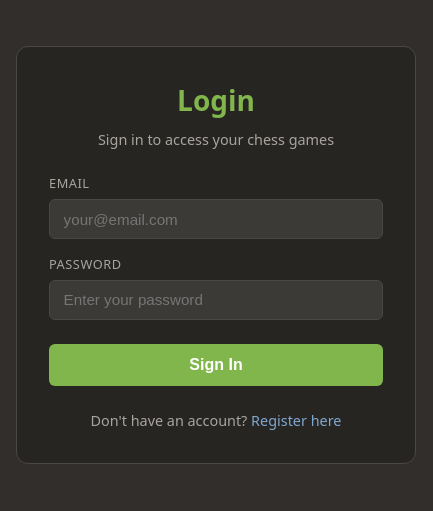
LoginPage failed login › shows error message on login failure
This screenshot has width=433, height=511.
Type "bad@test.com" into the field labelled "Email" at (216, 219), box 49,199 -> 383,239
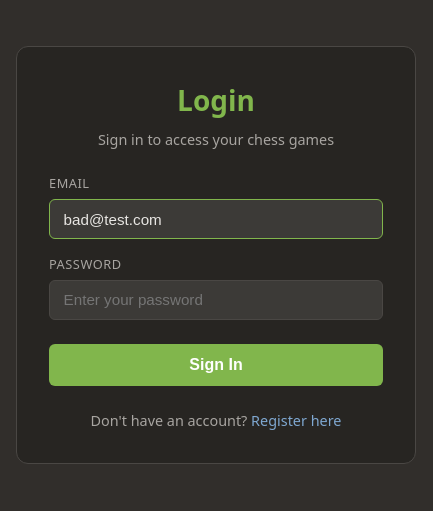
Type "wrongpass" into the password field labelled "Password" at (216, 300), box 49,280 -> 383,320
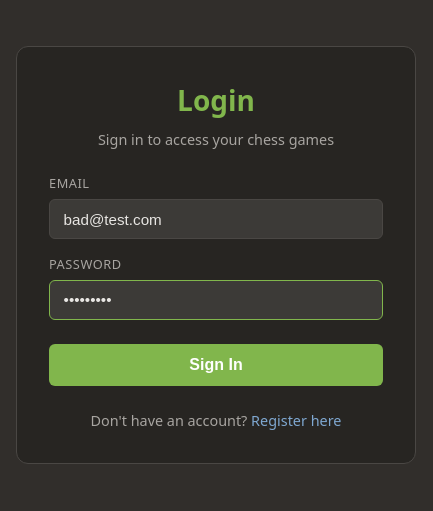
Click the button "Sign In" at (216, 365), box 49,344 -> 383,386
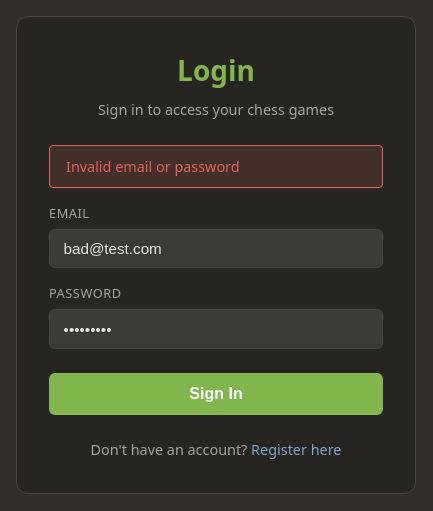
Check: the text "Invalid email or password" is shown, box 49,145 -> 383,188
